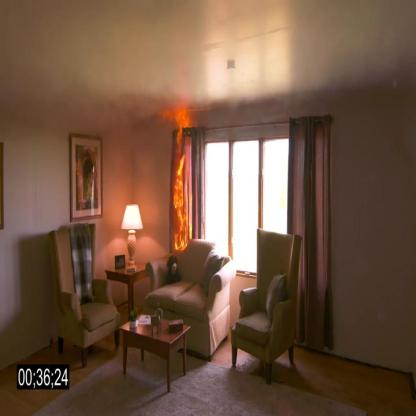fire: (160, 106, 194, 254)
